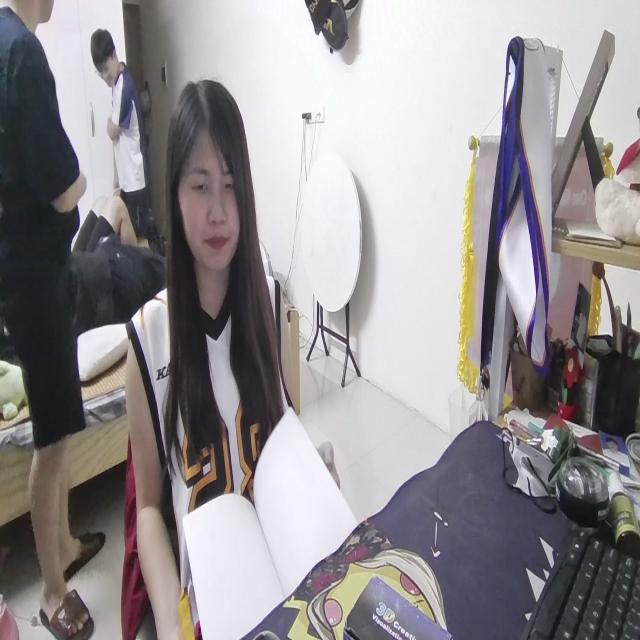book: (183, 402, 362, 635)
extra_person: (0, 0, 106, 640), (91, 25, 146, 239)
student: (126, 79, 296, 640)
